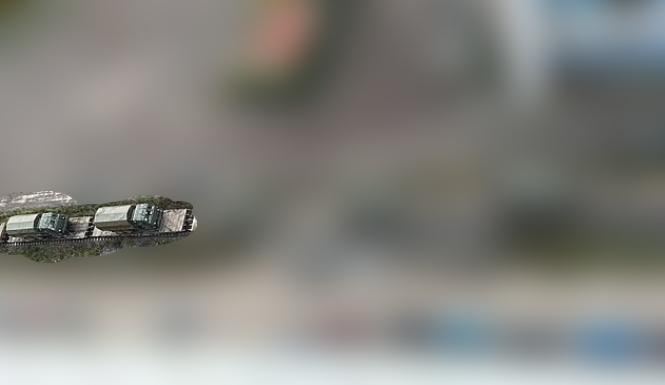truck: (94, 202, 163, 234), (5, 212, 68, 243)
